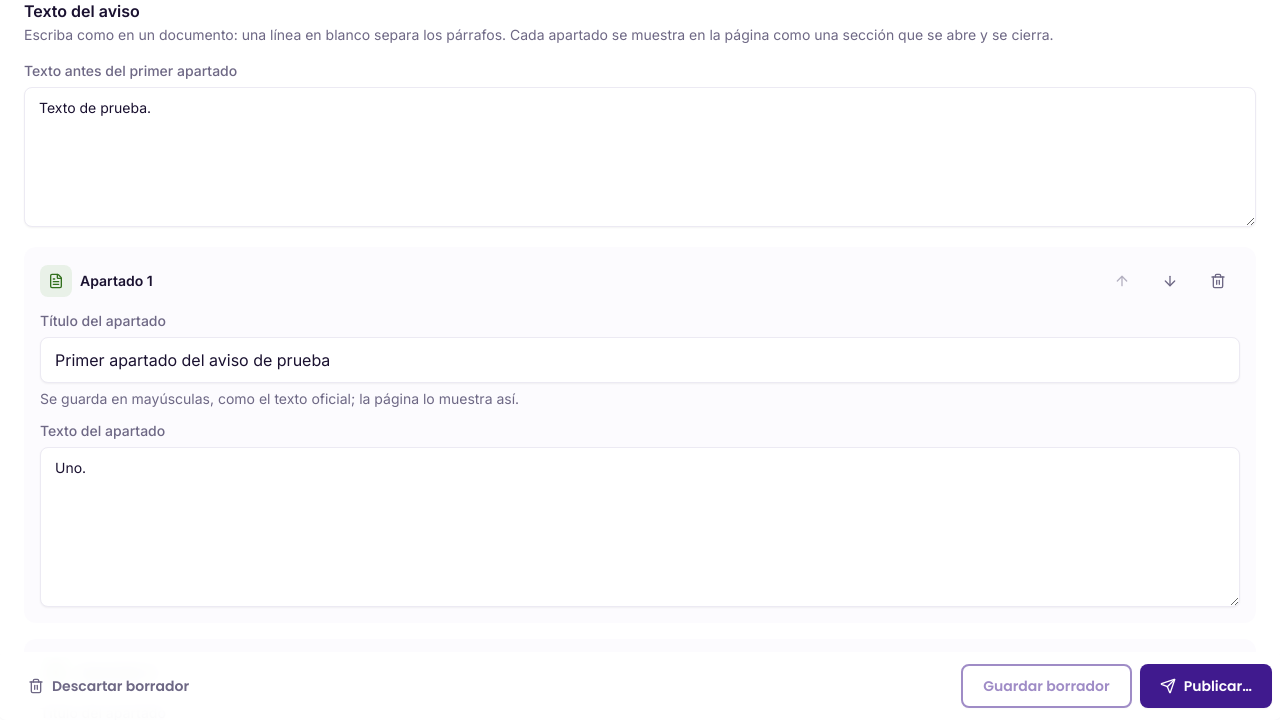
Test: AdminPrivacyNotice (/admin/aviso-privacidad) › marks a part title the page would not read as a part, next to the field, and blocks publishing
(page scrolled)
Replace the text in the field labelled "Título del apartado" with "Corto" at (640, 360), box [40,337,1240,383]
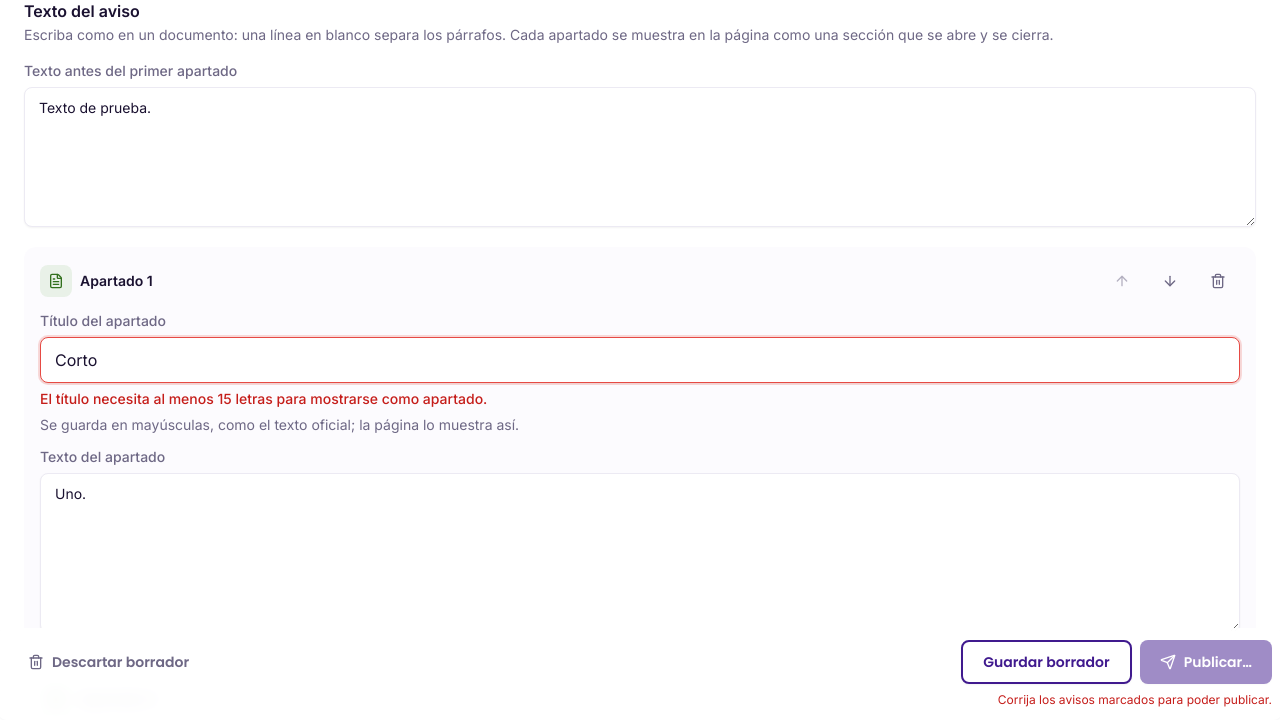
Expected: the button "Publicar…" is disabled, [1140,640,1272,684]
Expected: the text "necesita al menos 15 letras" is shown, [40,390,487,407]
